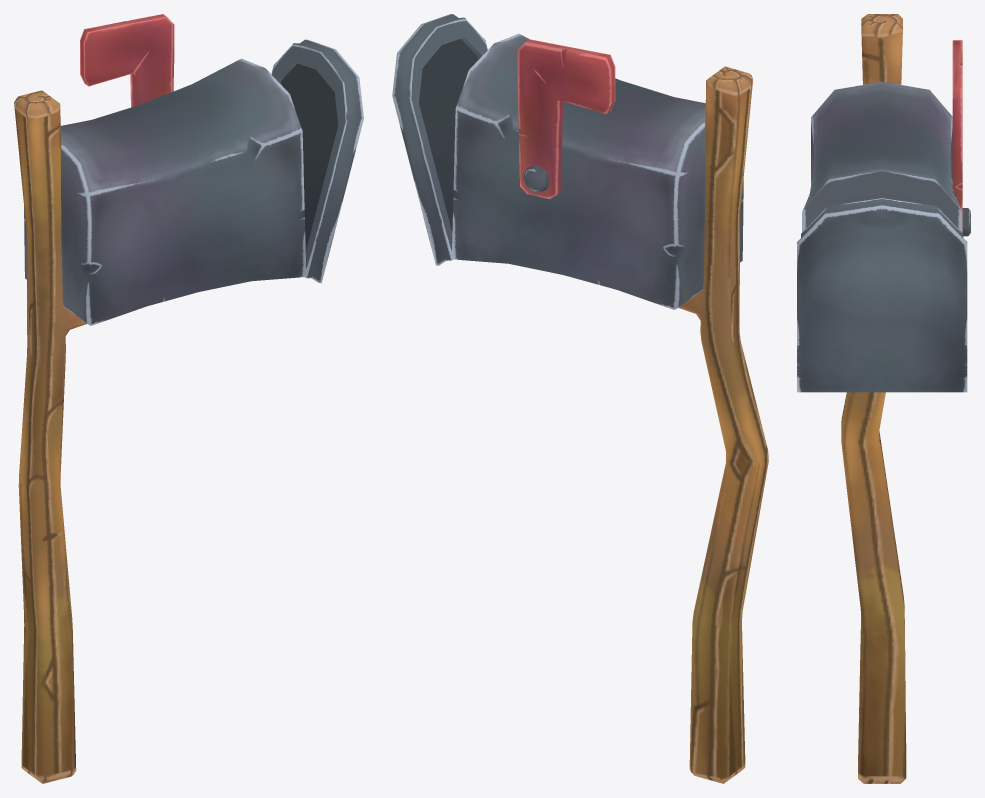
The model's file is PrunedMailbox.glb.
3 views of the same model, side by side, from view 1: azimuth 30°, elevation 25°; view 2: azimuth 150°, elevation 25°; view 3: azimuth 270°, elevation 25° (orthographic). The views are drawn at different scales.
Visible parts, largest first — view 1: Cube.003; view 2: Cube.003; view 3: Cube.003.
Boxes of the visible parts, x1,y1,x2,y2 form: Cube.003: [14, 14, 363, 783]; Cube.003: [392, 14, 768, 783]; Cube.003: [797, 14, 970, 783].
Size of the model in its own units: 13.4 by 27.99 by 5.69.
1 material, 1 textured.
